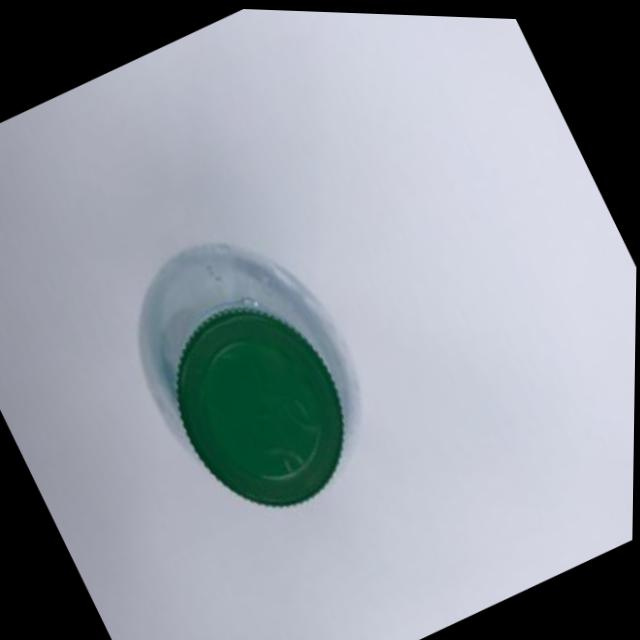plastic: (50, 147, 462, 623)
